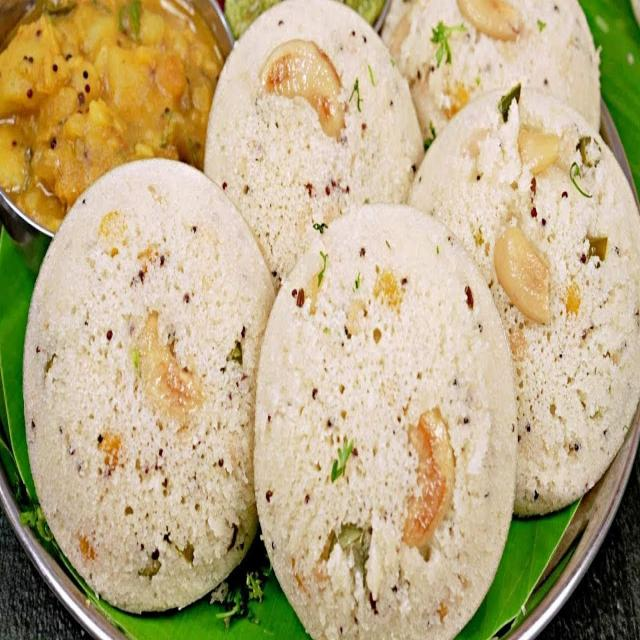rave idli: (253, 194, 523, 640), (20, 148, 255, 619), (410, 91, 640, 520), (191, 2, 425, 256), (382, 0, 608, 152)
